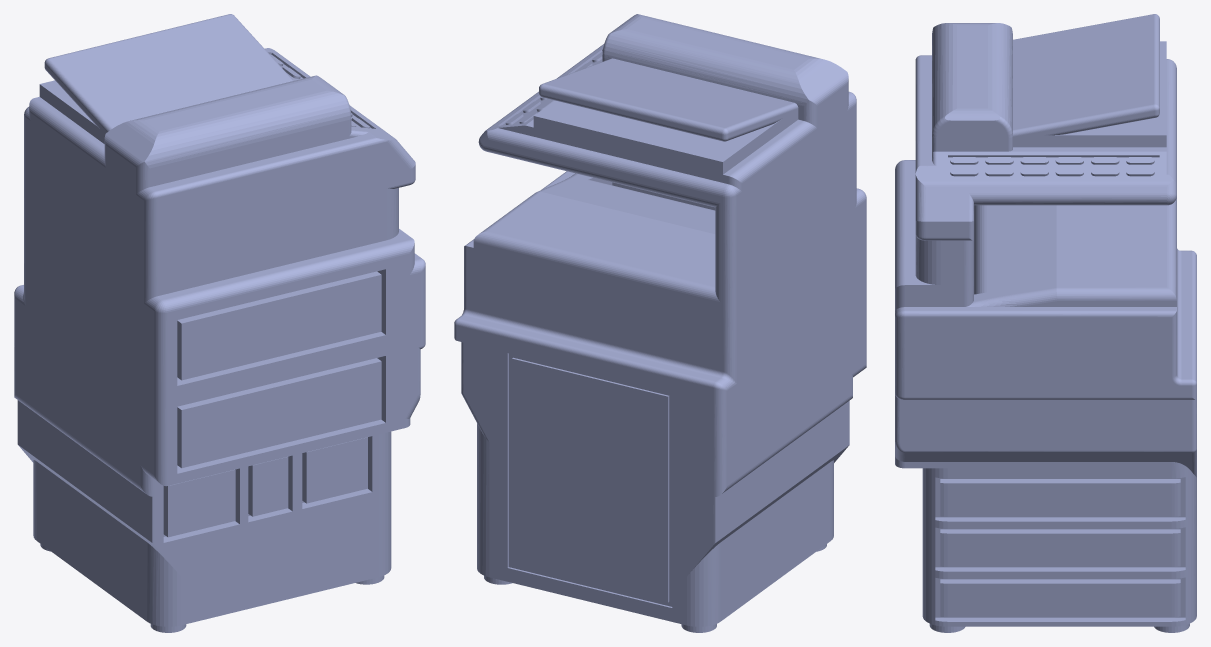
The model's file is photocopier.dae.
3 renders of one model, left to right at view 1: azimuth 30°, elevation 25°; view 2: azimuth 150°, elevation 25°; view 3: azimuth 270°, elevation 25°, orthographic.
Visible parts, largest first — view 1: Photocopieur; view 2: Photocopieur; view 3: Photocopieur.
Boxes of the visible parts, bbox=[...] form: Photocopieur: bbox=[14, 14, 425, 632]; Photocopieur: bbox=[454, 14, 866, 632]; Photocopieur: bbox=[895, 14, 1196, 632].
Size of the model in its own units: 0.63 by 0.6 by 1.11.
